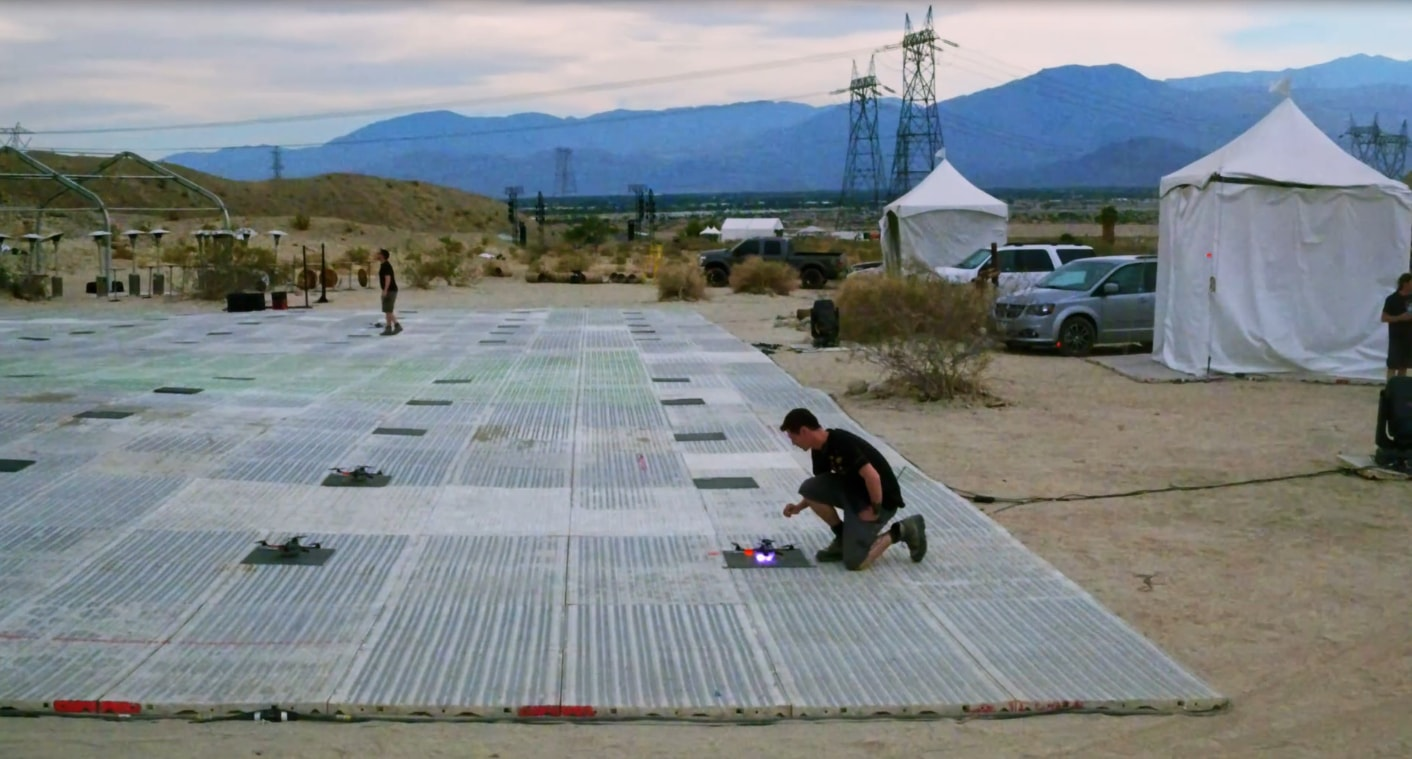drone: (251, 529, 330, 564), (726, 532, 802, 568), (328, 461, 388, 489)
person: (781, 404, 934, 576), (1378, 272, 1412, 395), (369, 244, 412, 333)
